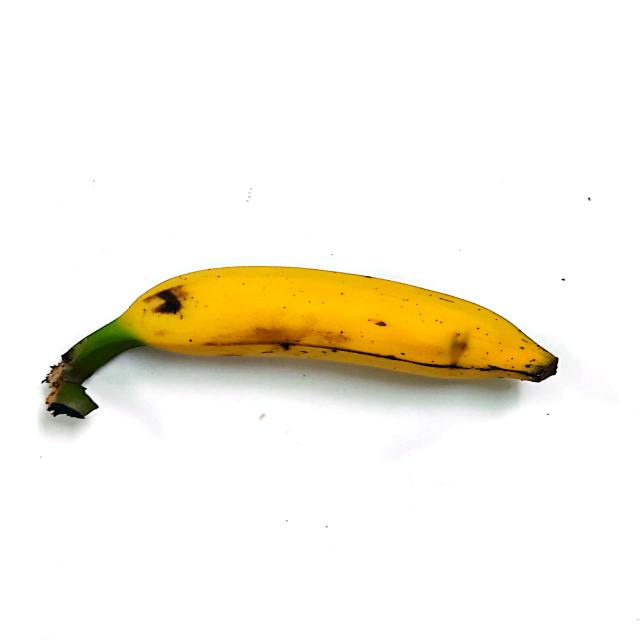fresh_banana: (51, 266, 544, 418)
